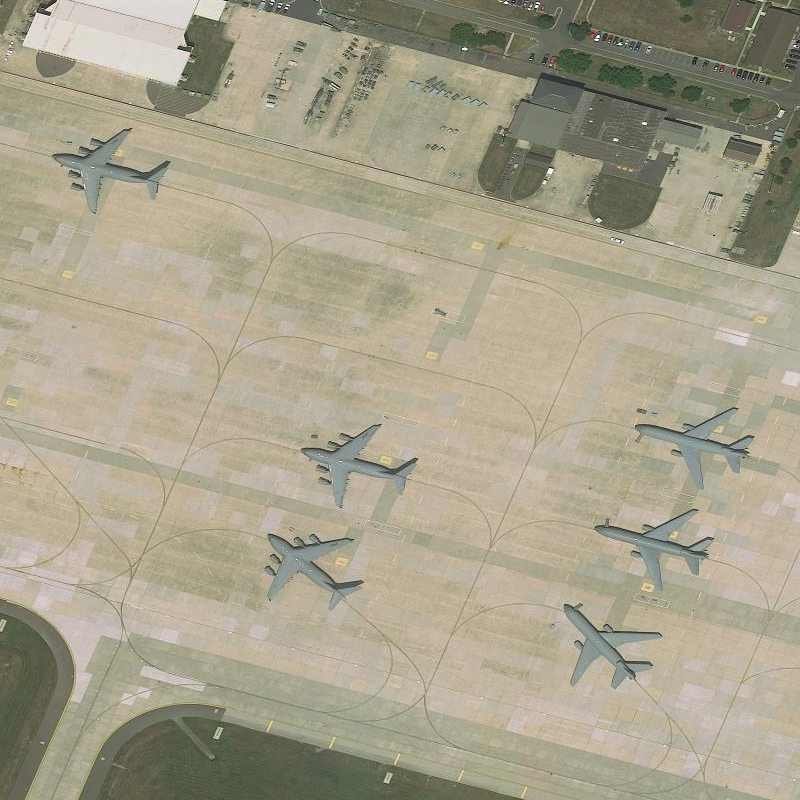A18: (587, 501, 721, 597), (632, 399, 762, 493), (553, 597, 667, 695)
A3: (49, 122, 176, 221), (292, 416, 424, 511), (257, 522, 371, 618)
